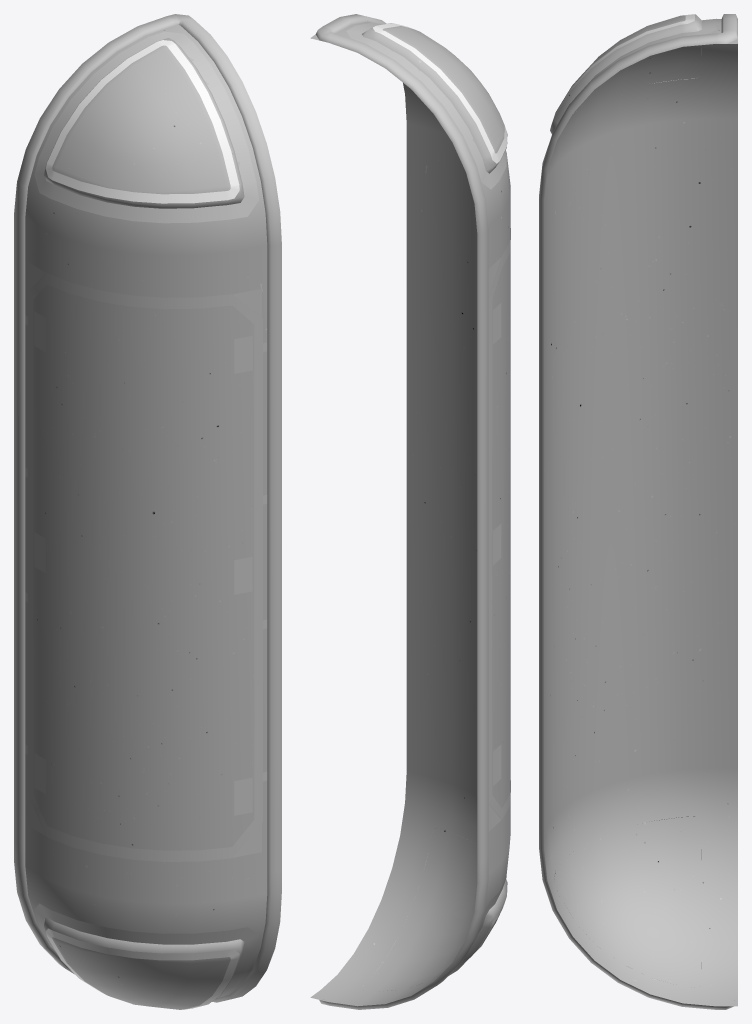
The model's file is SM_Modular_Corner_Merged.fbx.
3 renders of one model, left to right at view 1: azimuth 30°, elevation 25°; view 2: azimuth 150°, elevation 25°; view 3: azimuth 270°, elevation 25°, orthographic.
Visible parts, largest first — view 1: SM_Modular_Corner_Merged_LOD0; view 2: SM_Modular_Corner_Merged_LOD0; view 3: SM_Modular_Corner_Merged_LOD0.
Part boxes in pixels (<box>): SM_Modular_Corner_Merged_LOD0: <box>14,14,281,1009</box>; SM_Modular_Corner_Merged_LOD0: <box>310,14,510,1009</box>; SM_Modular_Corner_Merged_LOD0: <box>539,14,737,1009</box>.
Size of the model in its own units: 93.55 by 93.55 by 505.
